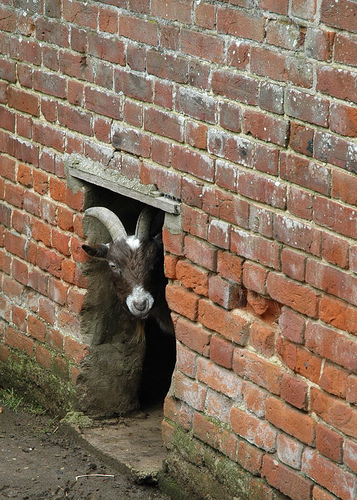goat: (80, 203, 178, 335)
